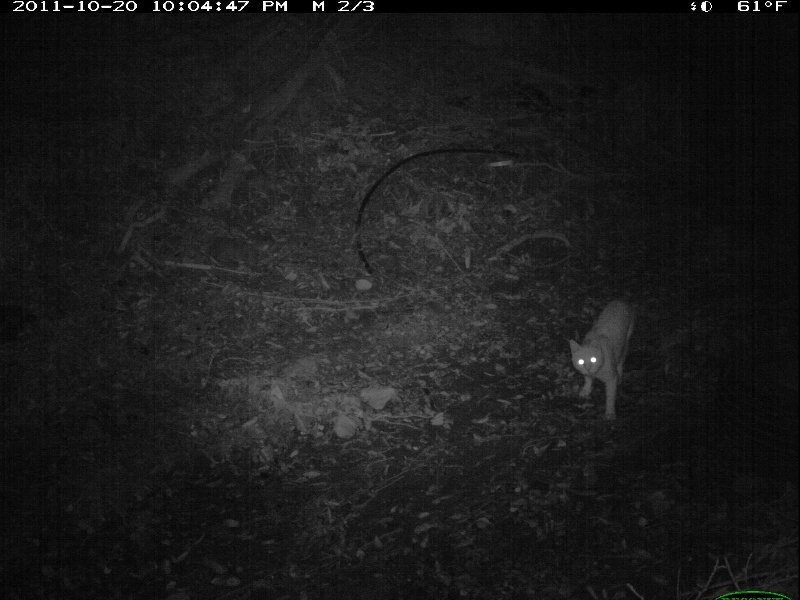cat: (570, 297, 639, 423)
